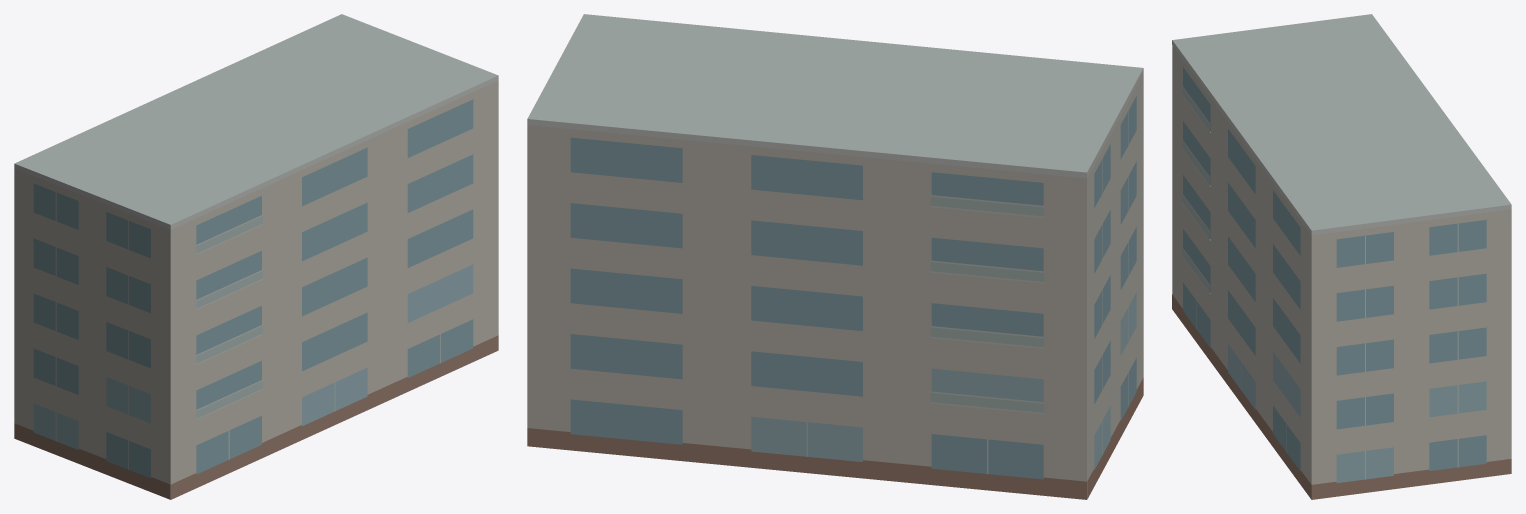
Rendered from survey-upis-32656360.glb.
3 renders of one model, left to right at view 1: azimuth 30°, elevation 25°; view 2: azimuth 150°, elevation 25°; view 3: azimuth 270°, elevation 25°, orthographic. The views are drawn at different scales.
Visible parts, largest first — view 1: survey-upis-32656360.tmp; view 2: survey-upis-32656360.tmp; view 3: survey-upis-32656360.tmp.
Part boxes in pixels (box(x1,y1,x2,y2)): survey-upis-32656360.tmp: box(14, 14, 498, 499); survey-upis-32656360.tmp: box(527, 14, 1143, 499); survey-upis-32656360.tmp: box(1172, 14, 1511, 499).
Size of the model in its own units: 23.31 by 13.5 by 15.44.
